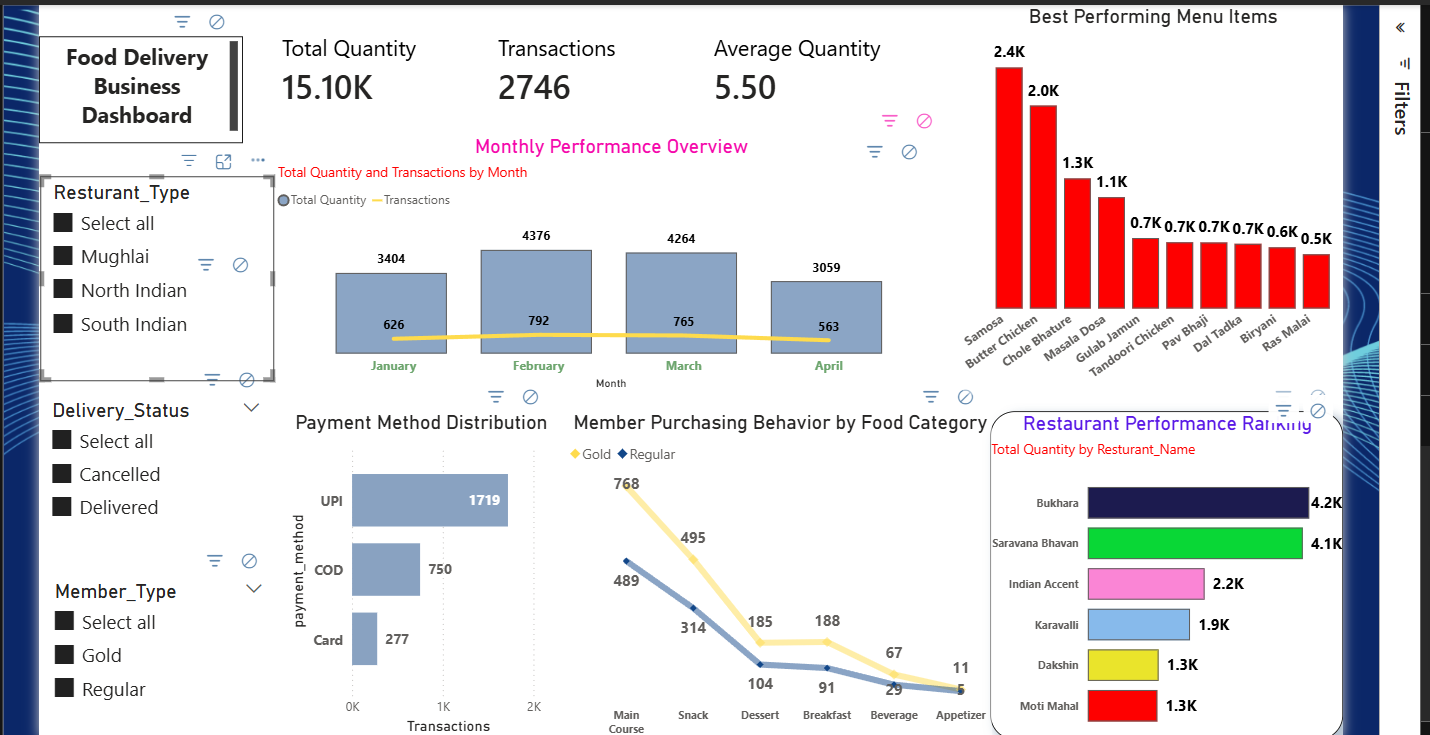

The page's visual inventory and layout, read from the dashboard file:
{"tool":"powerbi","page":{"name":"Page 1","canvas":[1280,720],"ordinal":0},"visuals":[{"type":"cardVisual","fields":{"Data":["Sales Data.Total Quantity","Sales Data.Transactions","Sales Data.Average Quantity"]},"box":[230,0,650,148.3],"z":0},{"type":"image","box":[0,0,223.3,150],"z":2000},{"type":"clusteredColumnChart","title":"Restaurant Performance Ranking","fields":{"Category":["Resturant_Details.Resturant_Name"],"Y":["Sales Data.Total Quantity"]},"box":[934.3,398.3,346.5,322.2],"z":3000},{"type":"lineStackedColumnComboChart","title":"Monthly Performance Overview","fields":{"Category":["Sales Data.orderDate.Variation.Date Hierarchy.Month"],"Y":["Sales Data.Total Quantity"],"Y2":["Sales Data.Transactions"]},"box":[241.7,150,450,231.7],"z":5000},{"type":"lineChart","title":"Member Purchasing Behavior by Food Category","fields":{"Category":["Food_Details.Type"],"Series":["Customer Details.member_Type"],"Y":["Sales Data.Transactions"]},"box":[520,398.3,415,321.7],"z":6000},{"type":"donutChart","title":"Delivery Status","fields":{"Y":["CountNonNull(Sales Data.deliver_status)"],"Category":["Sales Data.deliver_status"]},"box":[691.7,150,215,231.7],"z":7000},{"type":"funnel","title":"Payment Method Distribution","fields":{"Category":["Sales Data.payment_method"],"Y":["Sales Data.Transactions"]},"box":[241.3,398.3,267.2,322.2],"z":8000},{"type":"clusteredBarChart","title":"Best Performing Menu Items","fields":{"Y":["Sales Data.Total Quantity"],"Category":["Food_Details.Food"]},"box":[906.8,0,374,382.1],"z":9000},{"type":"textbox","box":[0,150,230,120],"z":11000},{"type":"shape","box":[0,268.3,223.3,53.3],"z":12000},{"type":"slicer","fields":{"Values":["Resturant_Details.Resturant_type"]},"box":[0,266.7,230,166.7],"z":13000},{"type":"slicer","fields":{"Values":["Sales Data.deliver_status"]},"box":[0,438.3,230,148.3],"z":14000},{"type":"slicer","fields":{"Values":["Customer Details.member_Type"]},"box":[0,571.7,230,133.3],"z":15000}]}

Visuals, with their boxes on the page's 1280x720 design canvas (x1, y1, x2, y2). These are canvas units, not pixel positions in the 1430x735 screenshot, which may show the page scaled, cropped or inside an application window:
cardVisual - Sales Data.Total Quantity x Sales Data.Transactions: 230, 0, 880, 148
image: 0, 0, 223, 150
"Restaurant Performance Ranking" clusteredColumnChart: 934, 398, 1281, 720
"Monthly Performance Overview" lineStackedColumnComboChart: 242, 150, 692, 382
"Member Purchasing Behavior by Food Category" lineChart: 520, 398, 935, 720
"Delivery Status" donutChart: 692, 150, 907, 382
"Payment Method Distribution" funnel: 241, 398, 508, 720
"Best Performing Menu Items" clusteredBarChart: 907, 0, 1281, 382
textbox: 0, 150, 230, 270
shape: 0, 268, 223, 322
slicer - Resturant_Details.Resturant_type: 0, 267, 230, 433
slicer - Sales Data.deliver_status: 0, 438, 230, 587
slicer - Customer Details.member_Type: 0, 572, 230, 705
